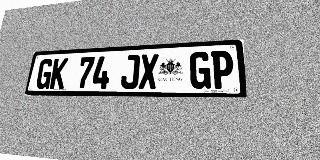4: (91, 56, 111, 89)
7: (75, 57, 95, 89)
G: (190, 51, 211, 89), (35, 59, 54, 89)
J: (120, 55, 140, 89)
K: (49, 58, 68, 89)
P: (211, 50, 234, 89)
X: (138, 54, 159, 89)
